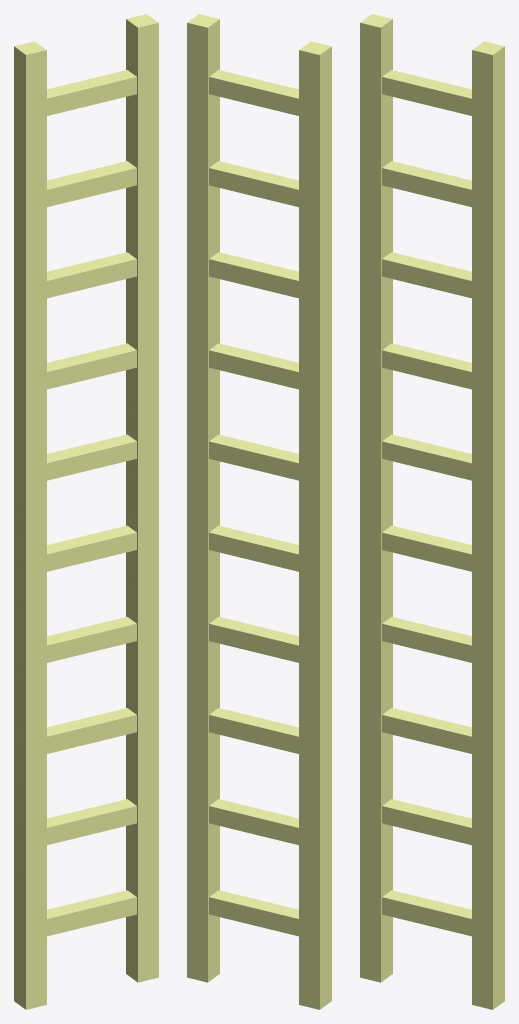
The model's file is ladder.glb.
3 renders of one model, left to right at view 1: azimuth 30°, elevation 25°; view 2: azimuth 150°, elevation 25°; view 3: azimuth 330°, elevation 25°, orthographic.
Visible parts, largest first — view 1: RailL, RailR, Rung3, Rung0, Rung1, Rung4, Rung5, Rung6, Rung8, Rung2, Rung7, Rung9; view 2: RailL, RailR, Rung3, Rung0, Rung1, Rung4, Rung5, Rung6, Rung8, Rung2, Rung7, Rung9; view 3: RailR, RailL, Rung3, Rung0, Rung1, Rung4, Rung5, Rung6, Rung8, Rung2, Rung7, Rung9.
Part boxes in pixels (x1,y1,x2,y2): RailL: (14,41,46,1009); RailR: (126,14,158,982); Rung3: (47,617,136,662); Rung0: (47,890,136,936); Rung1: (47,799,136,845); Rung4: (47,525,136,571); Rung5: (47,434,136,480); Rung6: (47,343,136,389); Rung8: (47,161,136,207); Rung2: (47,708,136,753); Rung7: (47,252,136,298); Rung9: (47,70,136,115); RailL: (299,41,331,1009); RailR: (187,14,219,982); Rung3: (209,617,298,662); Rung0: (209,890,298,936); Rung1: (209,799,298,845); Rung4: (209,525,298,571); Rung5: (209,434,298,480); Rung6: (209,343,298,389); Rung8: (209,161,298,207); Rung2: (209,708,298,753); Rung7: (209,252,298,298); Rung9: (209,70,298,115); RailR: (472,41,504,1009); RailL: (360,14,392,982); Rung3: (382,617,471,662); Rung0: (382,890,471,936); Rung1: (382,799,471,845); Rung4: (382,525,471,571); Rung5: (382,434,471,480); Rung6: (382,343,471,389); Rung8: (382,161,471,207); Rung2: (382,708,471,753); Rung7: (382,252,471,298); Rung9: (382,70,471,115).
Bounding box in the file's own units: 0.64 × 4.4 × 0.1.
